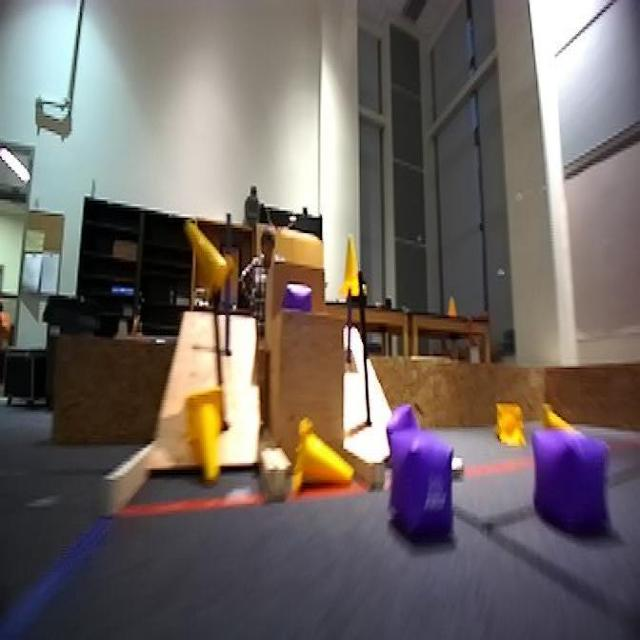frc_cone: (289, 414, 355, 504), (178, 390, 232, 483), (186, 214, 232, 293), (336, 228, 365, 301), (495, 402, 525, 446), (547, 407, 581, 437)
frc_cube: (531, 410, 616, 557), (388, 427, 456, 550), (279, 277, 318, 320), (391, 403, 419, 429)
